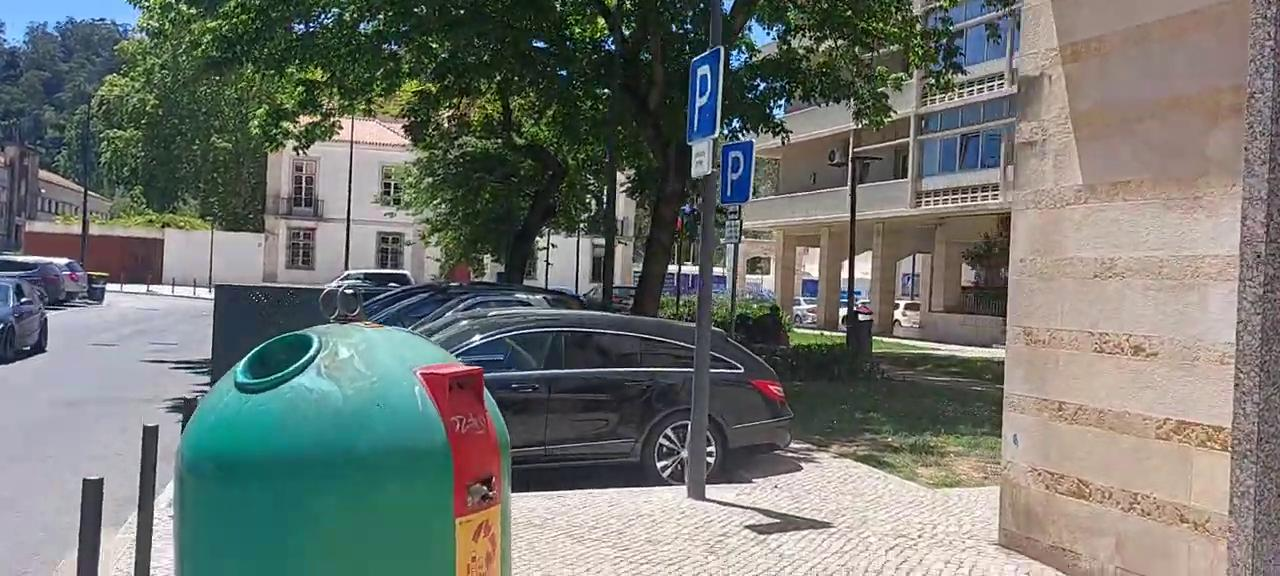Estacionamento autorizado: (685, 42, 726, 144), (719, 141, 759, 204)
